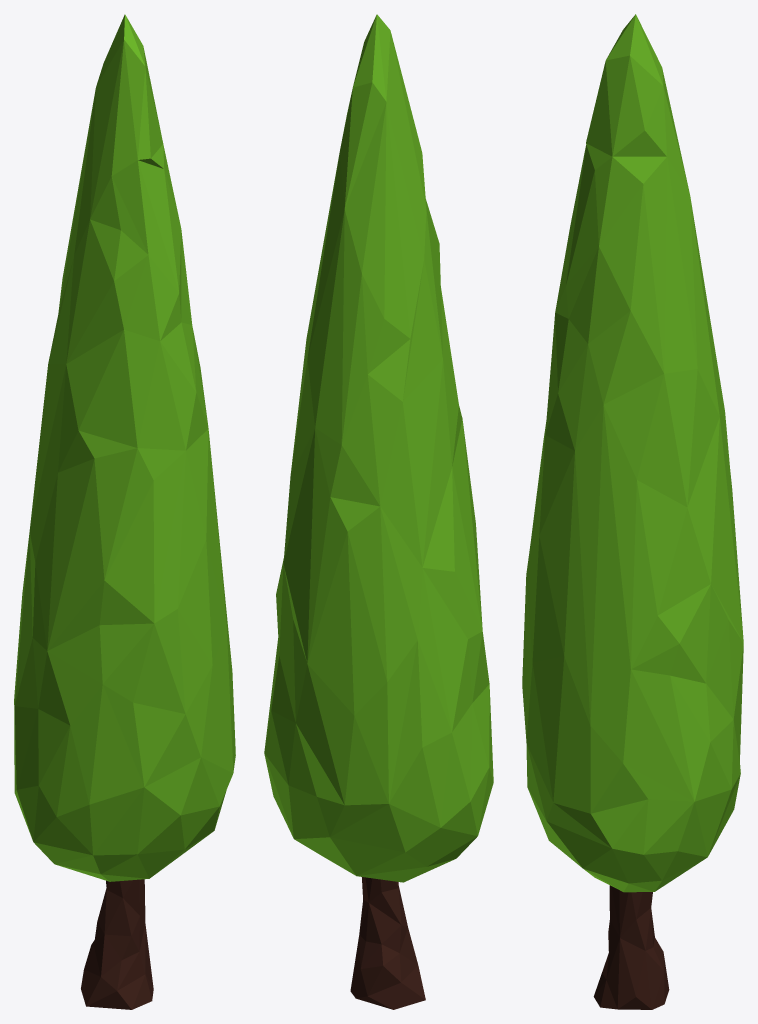
File: pine_a.FBX
3 views of the same model, side by side, from view 1: azimuth 30°, elevation 25°; view 2: azimuth 150°, elevation 25°; view 3: azimuth 270°, elevation 25° (orthographic).
Visible parts, largest first — view 1: pine_a; view 2: pine_a; view 3: pine_a.
Boxes of the visible parts, <box> form: pine_a: <box>14,14,235,1009</box>; pine_a: <box>264,14,493,1009</box>; pine_a: <box>522,14,743,1009</box>.
Bounding box in the file's own units: 327 × 1568 × 318.
